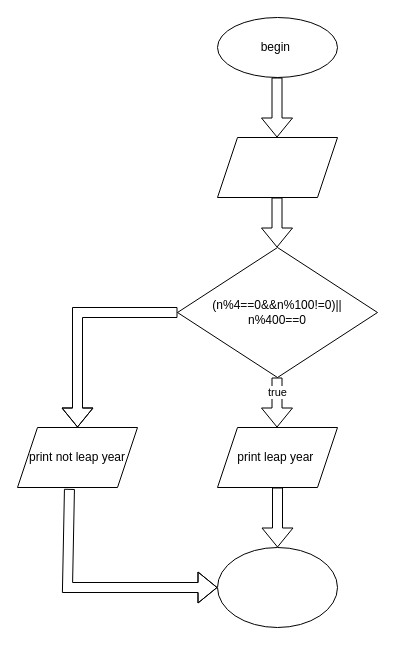
The diagram is 395 pixels wide and 645 high, and some of its shapes have lost their labels. The centre of each missing label's shape, as x and y in pixels:
end: point 277,587
intput n: point 277,167
